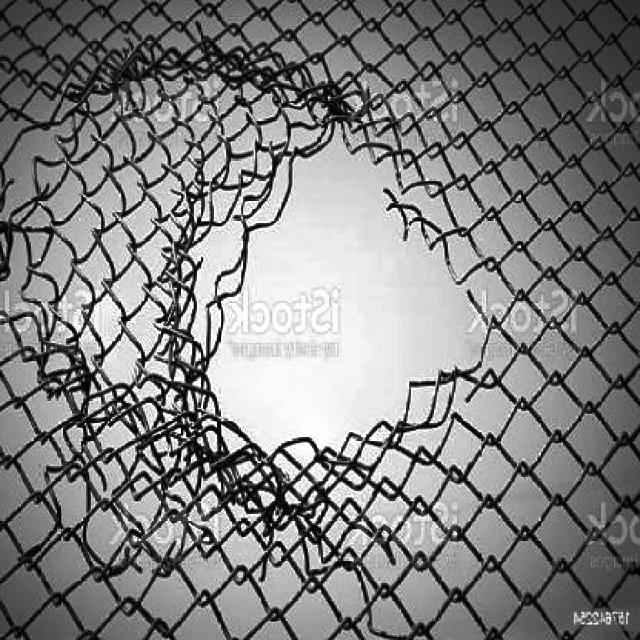anomaly-fence: (0, 23, 492, 527)
